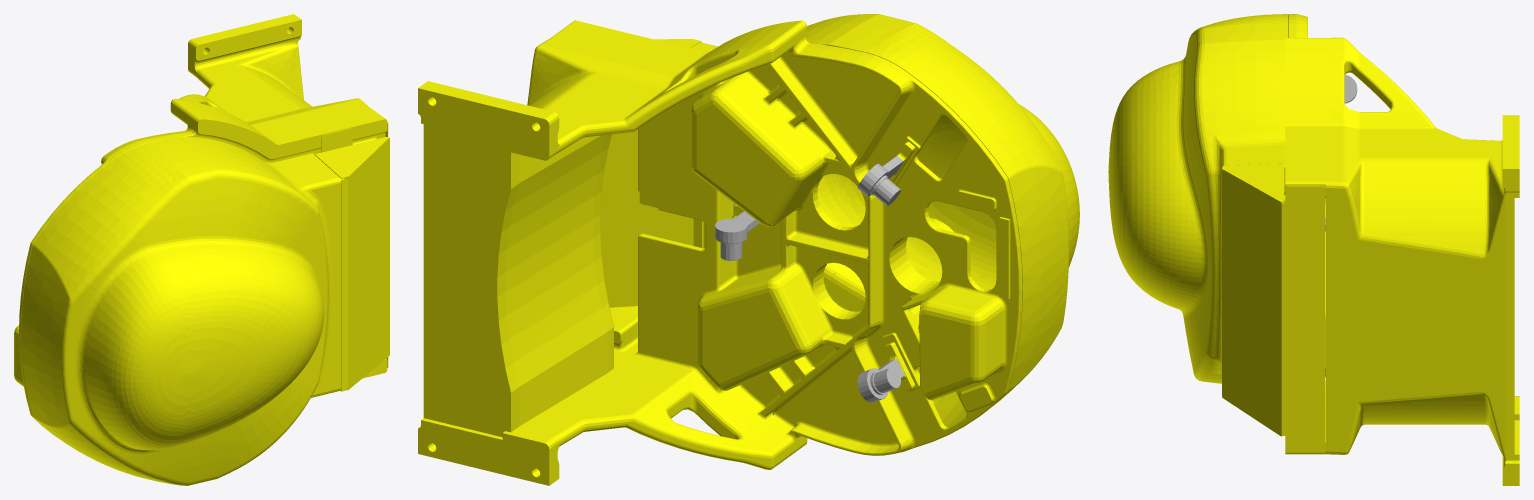
3 views of the same model, side by side, from view 1: azimuth 30°, elevation 25°; view 2: azimuth 150°, elevation 25°; view 3: azimuth 270°, elevation 25° (orthographic). The views are drawn at different scales.
Parts seen in each view (by area): view 1: node; view 2: node; view 3: node.
Boxes of the visible parts, x1=… form: node: x1=14, y1=14, x2=389, y2=485; node: x1=418, y1=14, x2=1079, y2=485; node: x1=1108, y1=14, x2=1519, y2=485.
Bounding box in the file's own units: 499 × 430 × 435.
